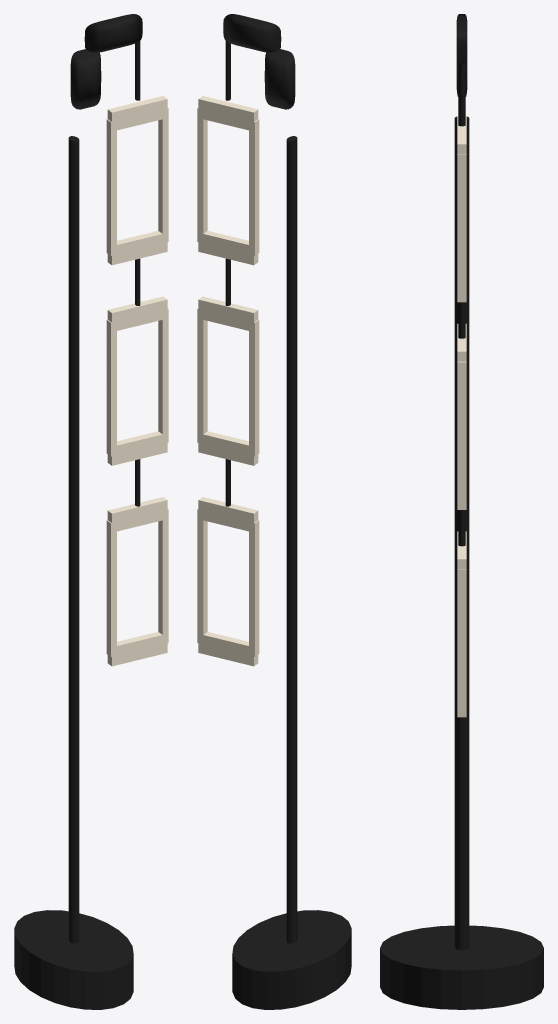
3 renders of one model, left to right at view 1: azimuth 30°, elevation 25°; view 2: azimuth 150°, elevation 25°; view 3: azimuth 270°, elevation 25°, orthographic. The views are drawn at different scales.
Visible parts, largest first — view 1: 1 base, 2 vertical_pole, 4 arc_top, 3 arc_bend, 13 ring2_left, 8 ring1_left, 18 ring3_left, 6 ring1_top, 16 ring3_top, 11 ring2_top, 7 ring1_bottom, 17 ring3_bottom (+4 smaller); view 2: 1 base, 2 vertical_pole, 4 arc_top, 3 arc_bend, 13 ring2_left, 18 ring3_left, 8 ring1_left, 6 ring1_top, 11 ring2_top, 16 ring3_top, 19 ring3_right, 9 ring1_right (+4 smaller); view 3: 1 base, 2 vertical_pole, 14 ring2_right, 9 ring1_right, 19 ring3_right, 4 arc_top, 5 top_connector.
Part boxes in pixels (x1,y1,x2,y2): 1 base: (14, 910, 133, 1009); 2 vertical_pole: (68, 136, 79, 943); 4 arc_top: (84, 14, 142, 52); 3 arc_bend: (70, 49, 101, 109); 13 ring2_left: (106, 319, 116, 456); 8 ring1_left: (106, 119, 116, 255); 18 ring3_left: (106, 520, 116, 656); 6 ring1_top: (107, 96, 167, 131); 16 ring3_top: (107, 497, 167, 532); 11 ring2_top: (107, 296, 167, 331); 7 ring1_bottom: (107, 231, 167, 265); 17 ring3_bottom: (107, 632, 167, 666); 1 base: (232, 910, 351, 1009); 2 vertical_pole: (286, 136, 297, 943); 4 arc_top: (223, 14, 281, 52); 3 arc_bend: (264, 49, 295, 109); 13 ring2_left: (249, 319, 259, 456); 18 ring3_left: (249, 520, 259, 656); 8 ring1_left: (249, 119, 259, 255); 6 ring1_top: (198, 96, 258, 131); 11 ring2_top: (198, 296, 258, 331); 16 ring3_top: (198, 497, 258, 532); 19 ring3_right: (197, 509, 207, 643); 9 ring1_right: (197, 108, 207, 243); 1 base: (380, 925, 543, 1009); 2 vertical_pole: (454, 116, 469, 949); 14 ring2_right: (457, 361, 466, 500); 9 ring1_right: (457, 154, 466, 292); 19 ring3_right: (457, 569, 466, 707); 4 arc_top: (456, 14, 467, 63); 5 top_connector: (458, 64, 465, 126).
Size of the model in its own units: 0.2794 by 1.85 by 0.2794.
